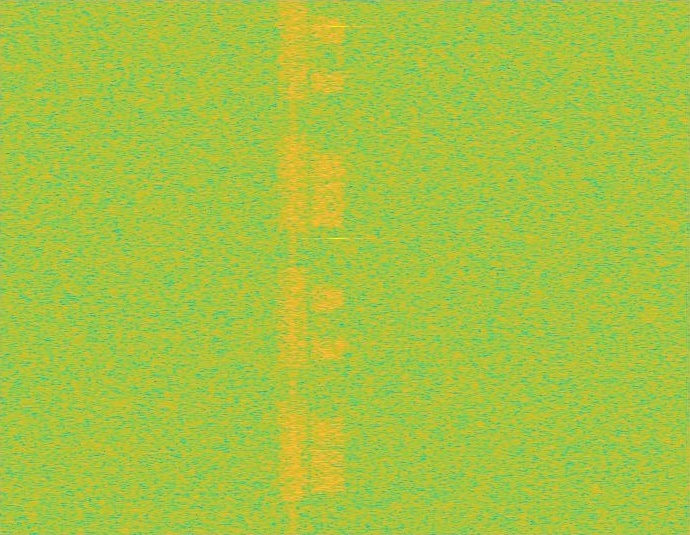5G: (276, 0, 311, 534)
DSSS: (289, 0, 297, 534)
LTE: (311, 0, 345, 534)
Radar: (331, 0, 345, 534)
